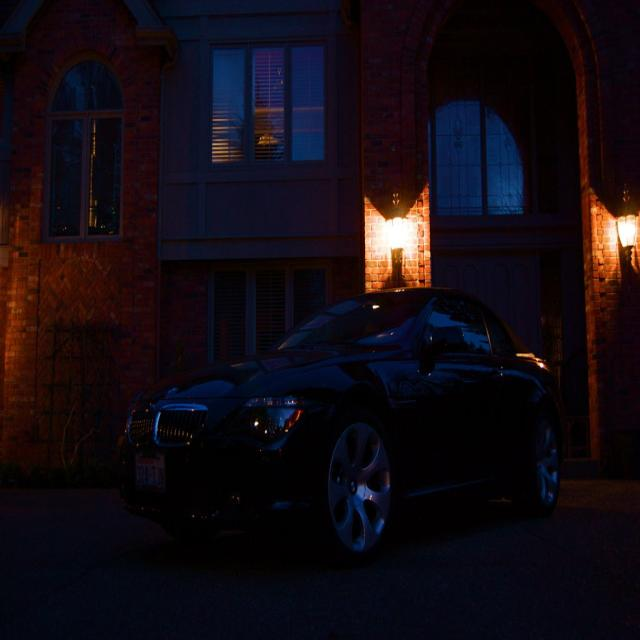car: (112, 280, 582, 585)
